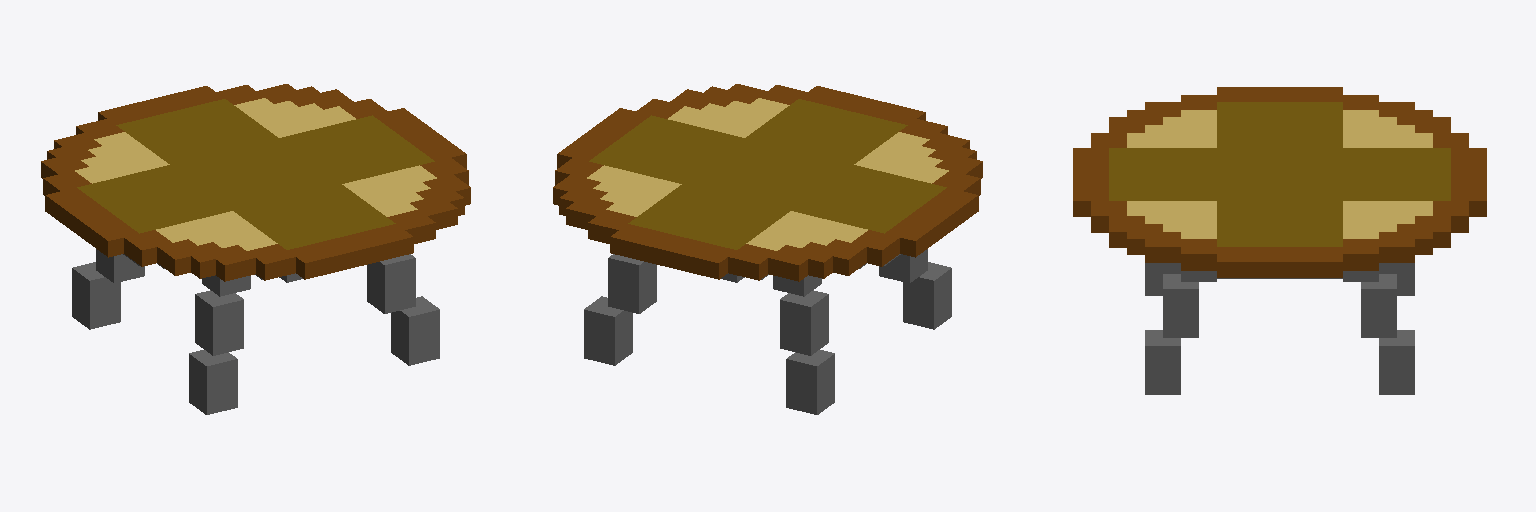
The picture shows the model from 3 angles: view 1: azimuth 30°, elevation 25°; view 2: azimuth 150°, elevation 25°; view 3: azimuth 270°, elevation 25°; orthographic projection.
Size of the model in its own units: 46 by 20 by 46.
Materials: 1 (1 with a texture image).